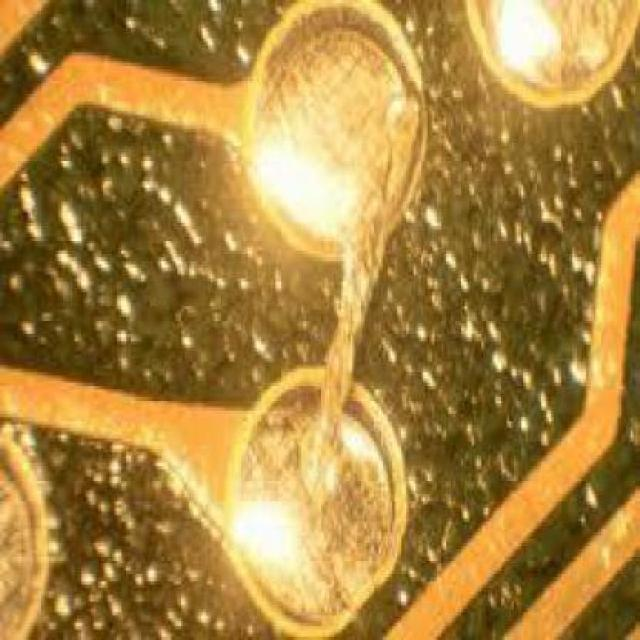Soldering shorted: (236, 0, 417, 620)
